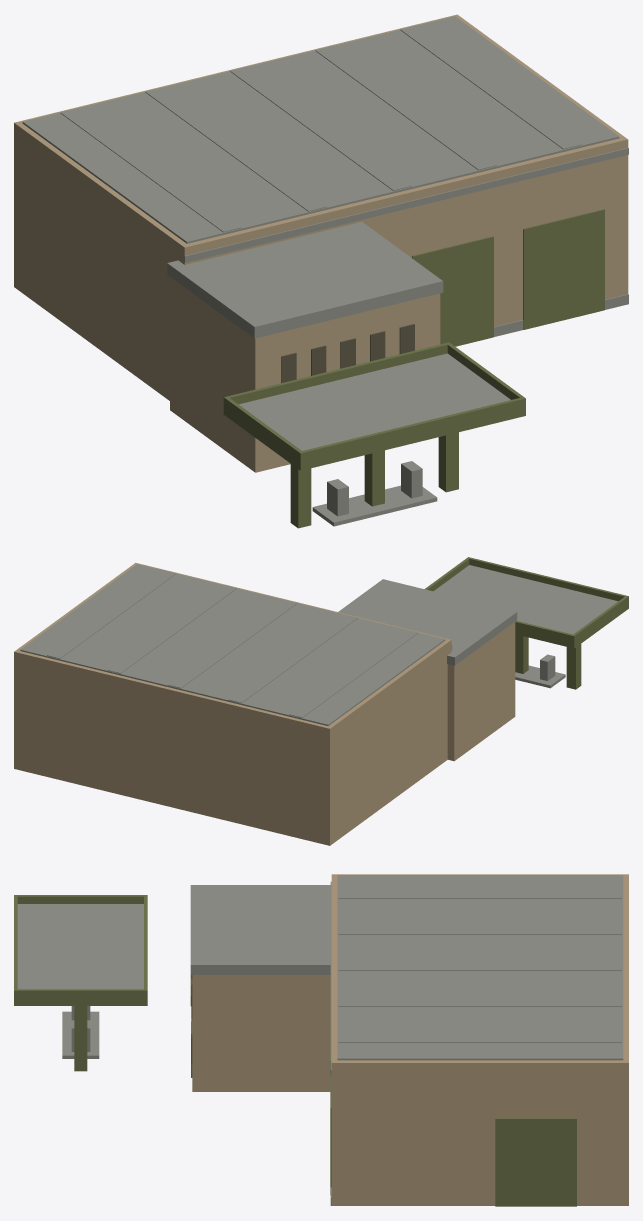
Rendered from SM_Cooperativa_v4_NaveVilavella_LOD1.fbx.
3 renders of one model, top to bottom at view 1: azimuth 30°, elevation 25°; view 2: azimuth 150°, elevation 25°; view 3: azimuth 270°, elevation 25°, orthographic. The views are drawn at different scales.
Parts seen in each view (by area): view 1: SM_bloques.cooperativa_v4_LOD1; view 2: SM_bloques.cooperativa_v4_LOD1; view 3: SM_bloques.cooperativa_v4_LOD1.
Part boxes in pixels (x1,y1,x2,y2): SM_bloques.cooperativa_v4_LOD1: (14,14,628,528); SM_bloques.cooperativa_v4_LOD1: (14,557,628,845); SM_bloques.cooperativa_v4_LOD1: (14,874,628,1206).
Size of the model in its own units: 27.68 by 8.64 by 33.1.
